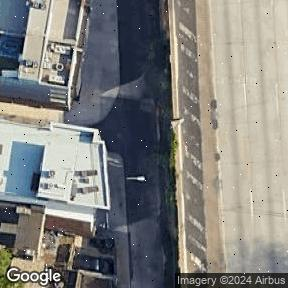vegetation: (0, 250, 23, 288)
